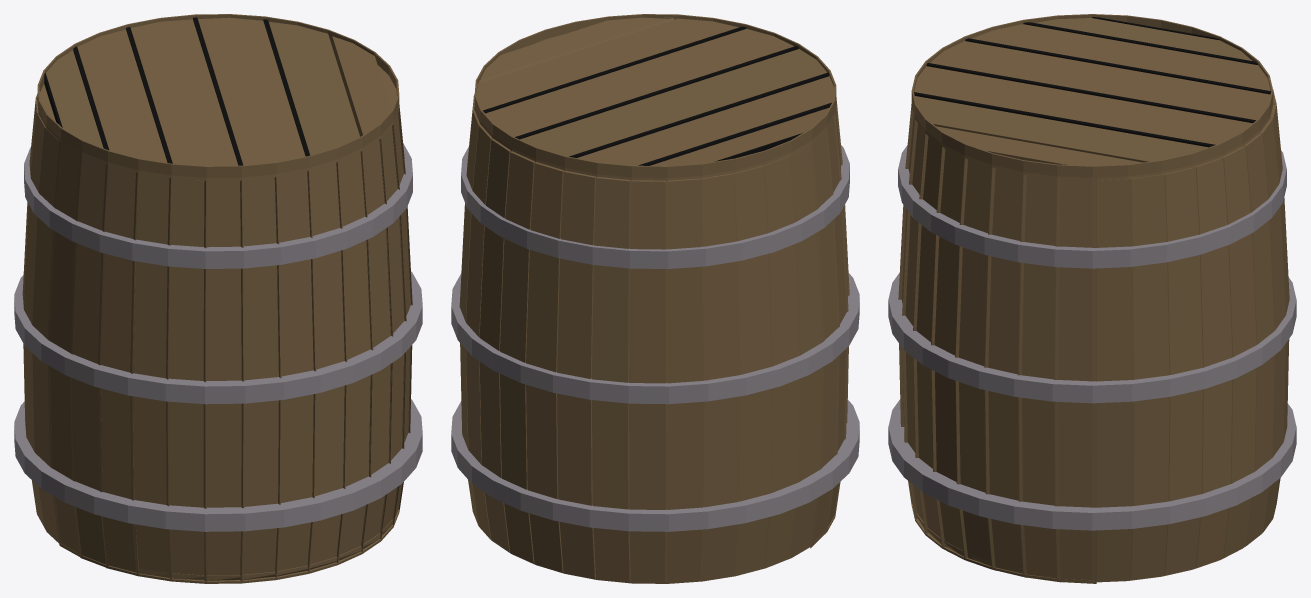
File: barrel.fbx
3 renders of one model, left to right at view 1: azimuth 30°, elevation 25°; view 2: azimuth 150°, elevation 25°; view 3: azimuth 270°, elevation 25°, orthographic.
Parts seen in each view (by area): view 1: Circle.003; view 2: Circle.003; view 3: Circle.003.
Part boxes in pixels (x1,y1,x2,y2): Circle.003: [14, 14, 422, 583]; Circle.003: [451, 14, 859, 583]; Circle.003: [888, 14, 1296, 583].
Bounding box in the file's own units: 42 × 47.38 × 42.
